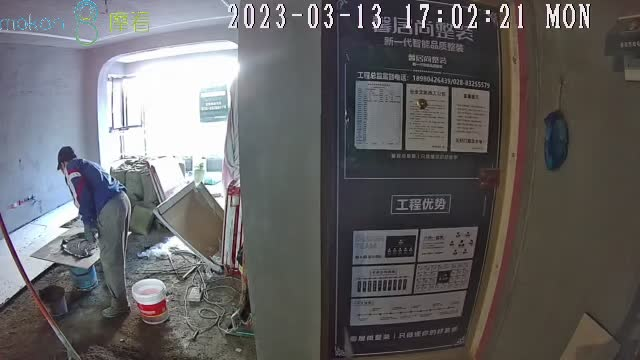people: (55, 145, 132, 318)
window: (106, 55, 239, 165)
